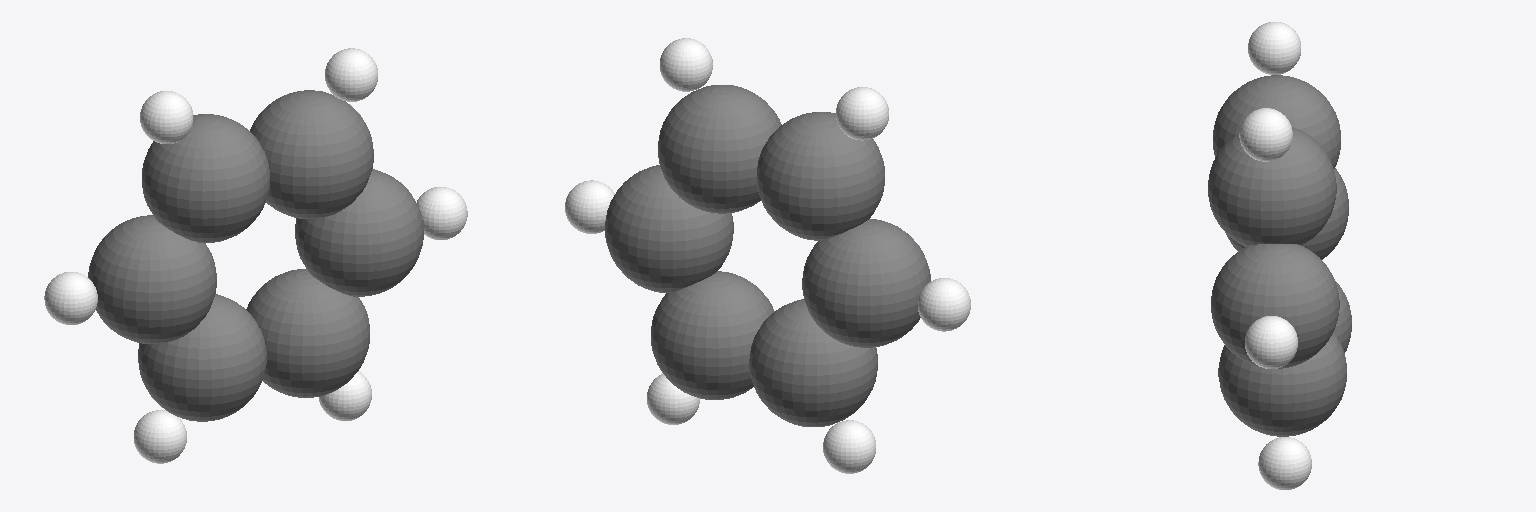
Rendered from benzene.obj.
3 views of the same model, side by side, from view 1: azimuth 30°, elevation 25°; view 2: azimuth 150°, elevation 25°; view 3: azimuth 270°, elevation 25° (orthographic).
Parts seen in each view (by area): view 1: Carbon_ball_SurfSphere.001, Hydrogen_ball_SurfSphere; view 2: Carbon_ball_SurfSphere.001, Hydrogen_ball_SurfSphere; view 3: Carbon_ball_SurfSphere.001, Hydrogen_ball_SurfSphere.
Part boxes in pixels (left/top/right/bottom): Carbon_ball_SurfSphere.001: left=88, top=90, right=423, bottom=421; Hydrogen_ball_SurfSphere: left=44, top=48, right=467, bottom=463; Carbon_ball_SurfSphere.001: left=605, top=85, right=930, bottom=426; Hydrogen_ball_SurfSphere: left=565, top=38, right=970, bottom=473; Carbon_ball_SurfSphere.001: left=1208, top=75, right=1351, bottom=436; Hydrogen_ball_SurfSphere: left=1239, top=22, right=1311, bottom=489.
Size of the model in its own units: 5.61 by 4.96 by 1.72.